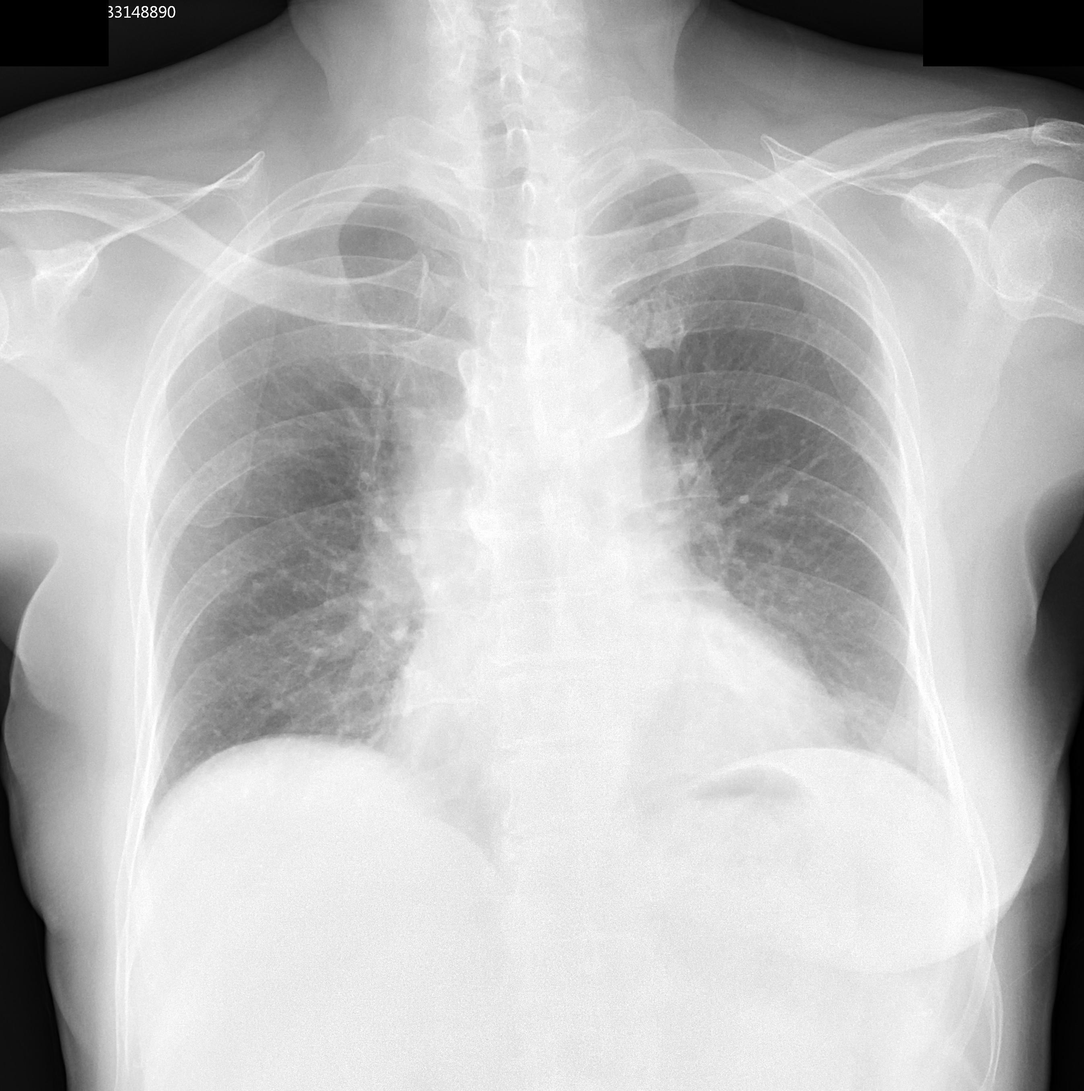Aortic enlargement: (524, 322, 669, 453)
Cardiomegaly: (375, 664, 858, 805)
